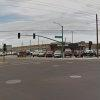Traffic light: (15, 31, 42, 43)
